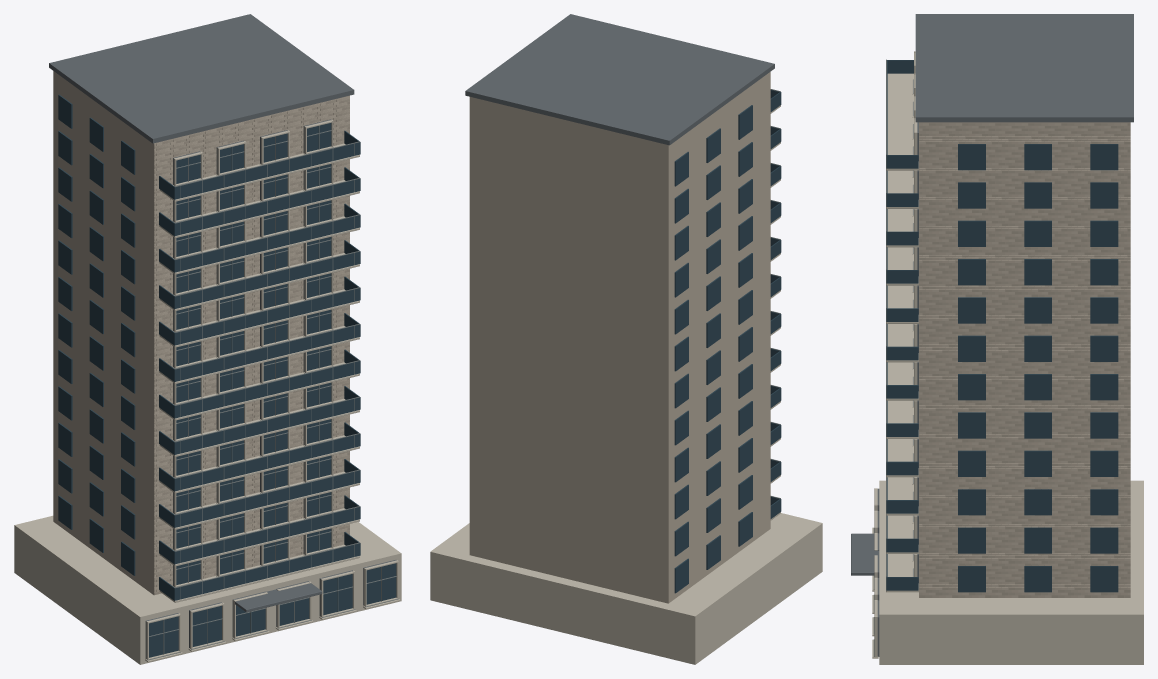
File: residential-tower-detailed-extreme.glb
3 renders of one model, left to right at view 1: azimuth 30°, elevation 25°; view 2: azimuth 150°, elevation 25°; view 3: azimuth 270°, elevation 25°, orthographic. The views are drawn at different scales.
Parts seen in each view (by area): view 1: glass, stone, wall, roof, frame, brick_2, brick_0, brick_1, brick_3, brick_4; view 2: wall, stone, roof, glass; view 3: glass, stone, roof, brick_1, brick_4, brick_2, brick_3, brick_0, wall, frame.
Part boxes in pixels (x1=…): glass: x1=58, y1=94, x2=396, y2=657; stone: x1=14, y1=119, x2=401, y2=664; wall: x1=53, y1=71, x2=349, y2=594; roof: x1=49, y1=14, x2=396, y2=658; frame: x1=148, y1=125, x2=398, y2=660; brick_2: x1=154, y1=98, x2=349, y2=592; brick_0: x1=154, y1=100, x2=349, y2=595; brick_1: x1=154, y1=99, x2=349, y2=593; brick_3: x1=154, y1=97, x2=349, y2=591; brick_4: x1=154, y1=96, x2=349, y2=590; wall: x1=469, y1=72, x2=770, y2=603; stone: x1=430, y1=105, x2=822, y2=664; roof: x1=465, y1=14, x2=774, y2=145; glass: x1=674, y1=90, x2=781, y2=593; glass: x1=886, y1=60, x2=1118, y2=592; stone: x1=872, y1=51, x2=1143, y2=664; roof: x1=851, y1=14, x2=1133, y2=656; brick_1: x1=919, y1=123, x2=1130, y2=597; brick_4: x1=919, y1=123, x2=1130, y2=597; brick_2: x1=919, y1=123, x2=1130, y2=597; brick_3: x1=919, y1=123, x2=1130, y2=597; brick_0: x1=919, y1=123, x2=1130, y2=597; wall: x1=919, y1=122, x2=1130, y2=597; frame: x1=873, y1=59, x2=913, y2=656.
Size of the model in its own units: 24 by 44.4 by 22.15.
